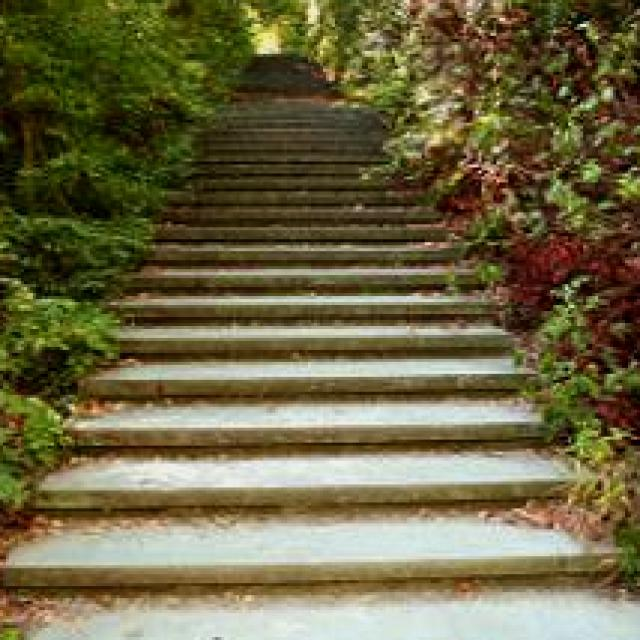upstair: (58, 297, 587, 572)
